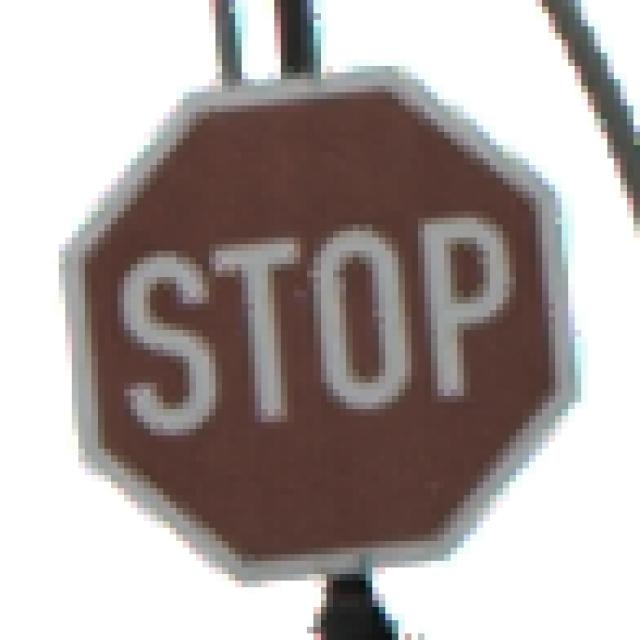STOP: (53, 61, 589, 589)
